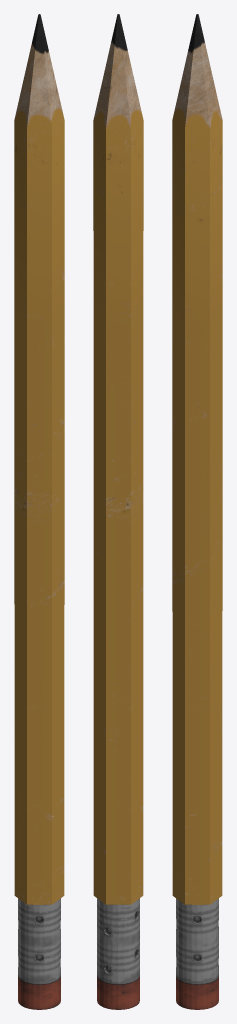
Rendered from pencil.fbx.
The picture shows the model from 3 angles, left to right: view 1: azimuth 90°, elevation 25°; view 2: azimuth 150°, elevation 25°; view 3: azimuth 270°, elevation 25°; orthographic projection.
Parts seen in each view (by area): view 1: Lowpoly; view 2: Lowpoly; view 3: Lowpoly.
Boxes of the visible parts, x1,y1,x2,y2 form: Lowpoly: (14,14,64,1009); Lowpoly: (93,14,143,1009); Lowpoly: (172,14,222,1009).
Size of the model in its own units: 0.7195 by 18.04 by 0.8325.
